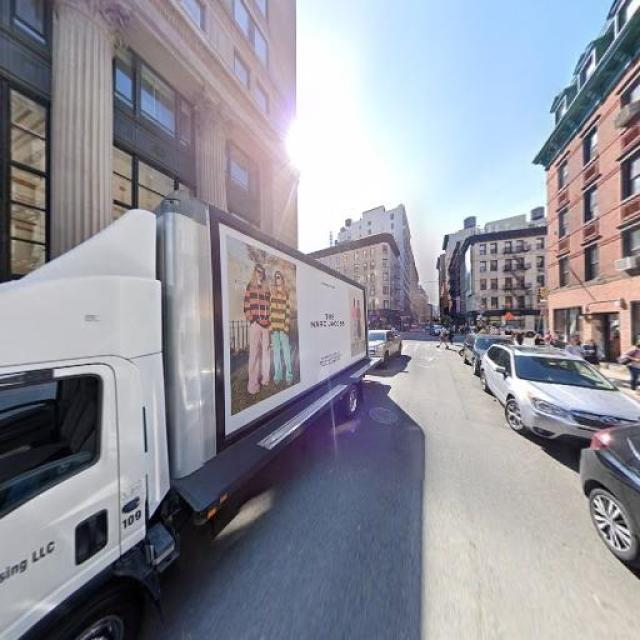Building: (1, 1, 297, 432), (550, 1, 640, 374)
